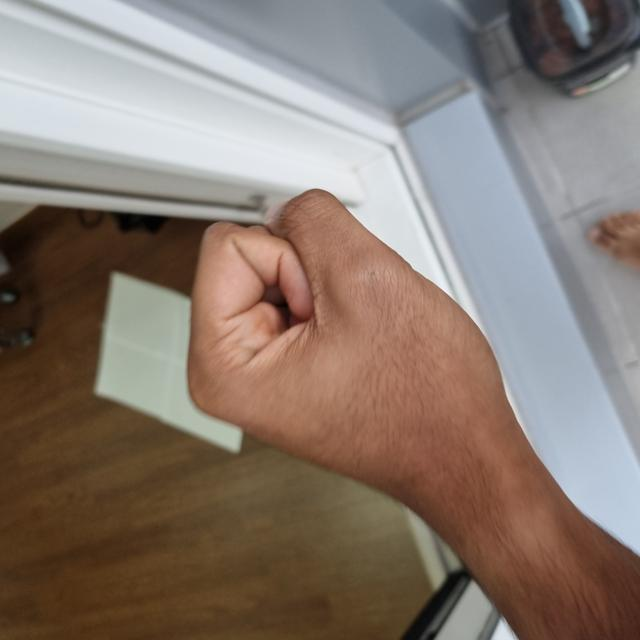Rock: (130, 189, 446, 508)
